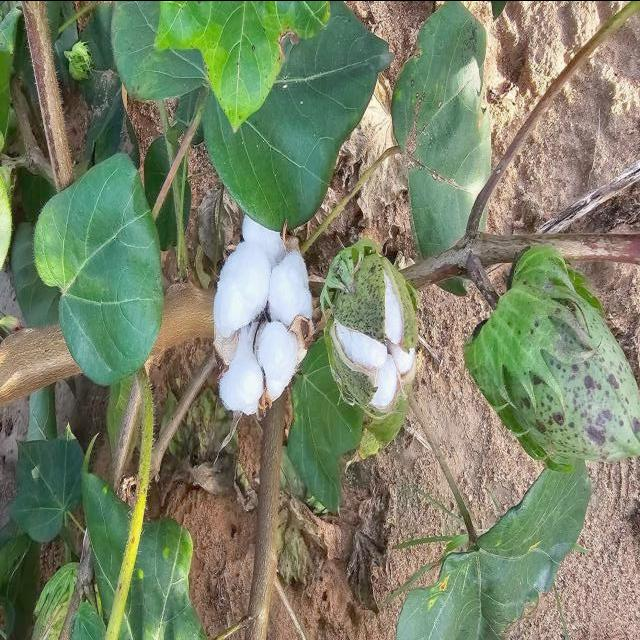Early Boll: (466, 241, 640, 481)
Matured Cotton Boll: (210, 226, 310, 419)
Split Cotton Boll: (322, 244, 421, 420)
